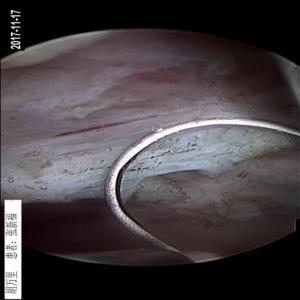film: (41, 105, 174, 151)
